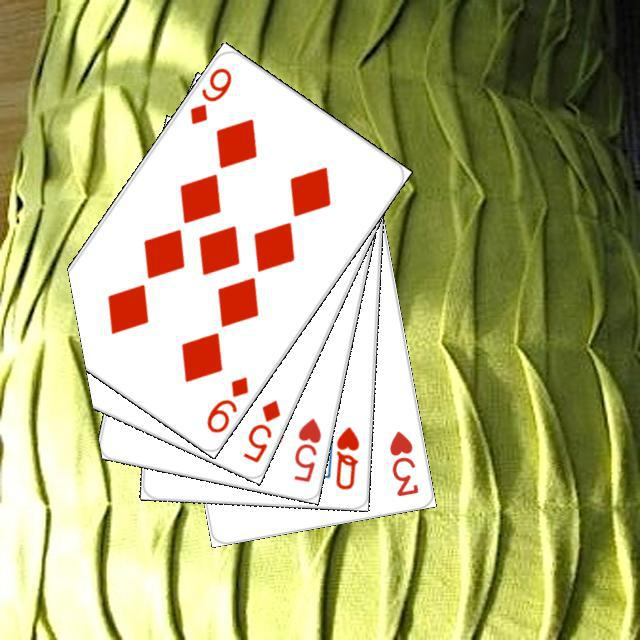3h: (384, 426, 420, 498)
5d: (238, 395, 283, 464)
5h: (289, 412, 323, 484)
9d: (184, 62, 234, 127), (201, 371, 251, 435)
Qh: (331, 421, 361, 492)
